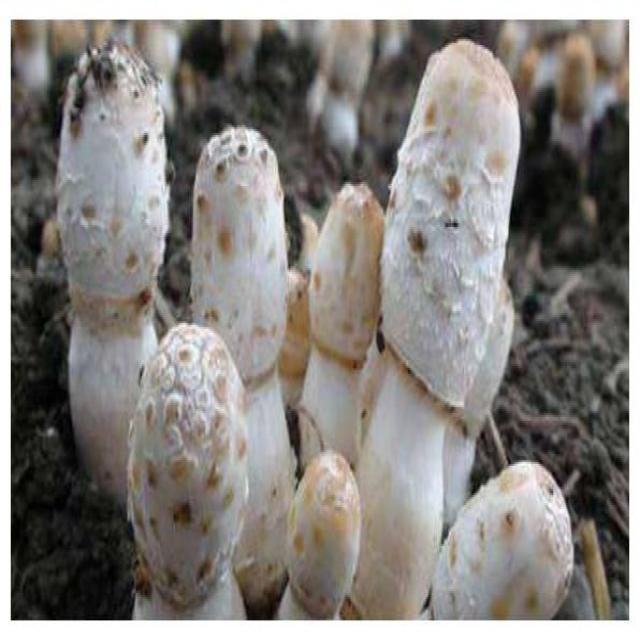Coprinus comatus: (364, 39, 520, 616), (190, 126, 300, 600), (58, 40, 167, 487), (128, 325, 249, 623), (429, 459, 574, 619), (309, 185, 382, 458), (279, 449, 358, 622)
